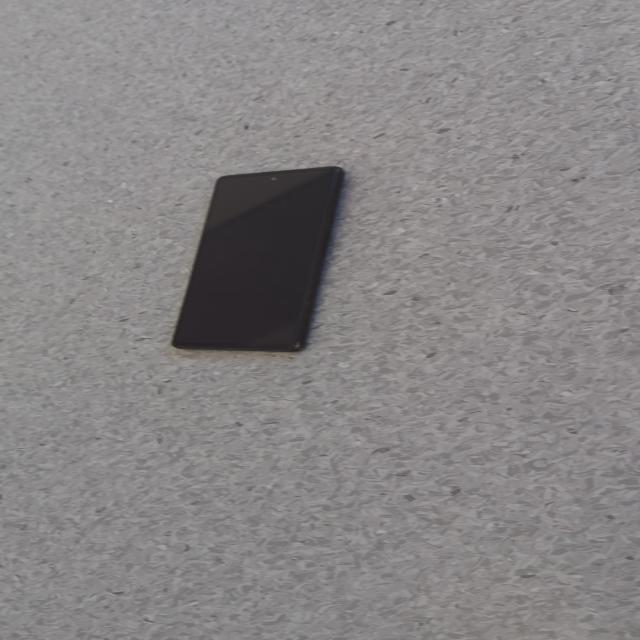phone: (170, 165, 344, 353)
